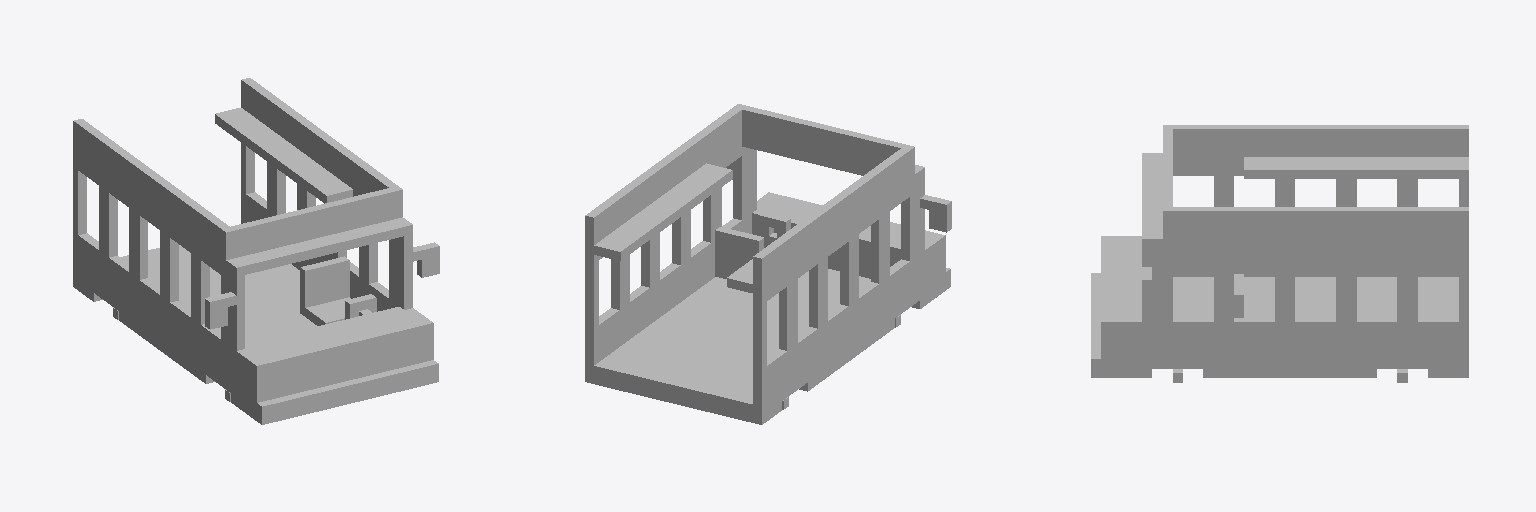
Rendered from bus.obj.
The picture shows the model from 3 angles: view 1: azimuth 30°, elevation 25°; view 2: azimuth 150°, elevation 25°; view 3: azimuth 270°, elevation 25°; orthographic projection.
Visible parts, largest first — view 1: object 1; view 2: object 1; view 3: object 1.
Boxes of the visible parts, x1=… form: object 1: x1=73, y1=78, x2=439, y2=424; object 1: x1=585, y1=104, x2=951, y2=424; object 1: x1=1091, y1=125, x2=1468, y2=382.
Size of the model in its own units: 2.6 by 1.9 by 3.7.